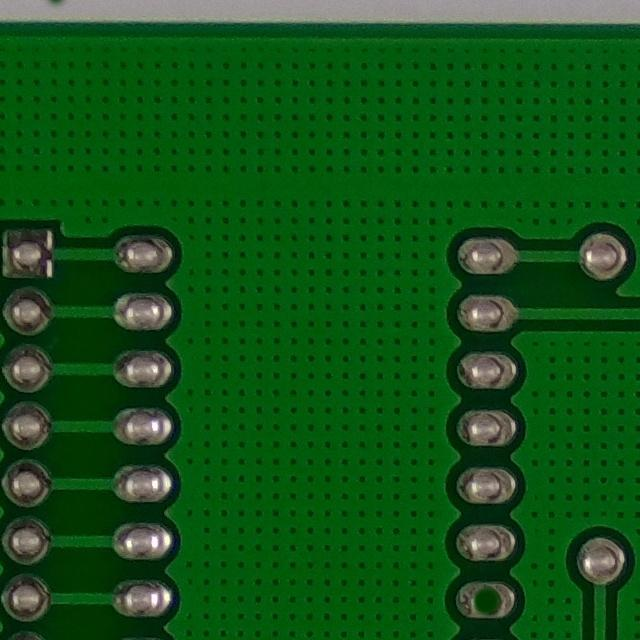missing_hole: (462, 582, 515, 620)
